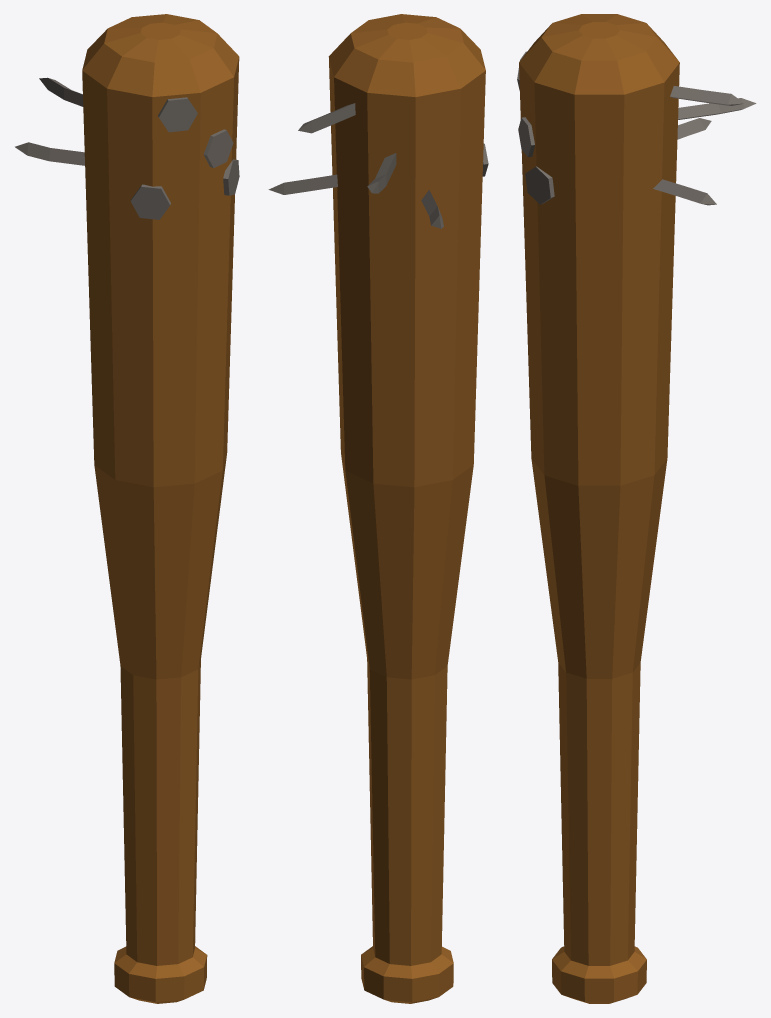
The model's file is MedivalBatonNails.fbx.
3 views of the same model, side by side, from view 1: azimuth 30°, elevation 25°; view 2: azimuth 150°, elevation 25°; view 3: azimuth 270°, elevation 25° (orthographic).
Visible parts, largest first — view 1: Цилиндр, Цилиндр.002, Цилиндр.001, Цилиндр.003, Цилиндр.006; view 2: Цилиндр, Цилиндр.003, Цилиндр.006, Цилиндр.001; view 3: Цилиндр, Цилиндр.001, Цилиндр.002, Цилиндр.006, Цилиндр.003.
Part boxes in pixels (x1,y1,x2,y2): Цилиндр: [82, 14, 239, 1003]; Цилиндр.002: [15, 142, 239, 195]; Цилиндр.001: [39, 77, 233, 168]; Цилиндр.003: [130, 184, 170, 219]; Цилиндр.006: [158, 97, 197, 132]; Цилиндр: [328, 14, 485, 1003]; Цилиндр.003: [268, 143, 488, 194]; Цилиндр.006: [298, 103, 355, 133]; Цилиндр.001: [367, 153, 396, 193]; Цилиндр: [519, 14, 679, 1003]; Цилиндр.001: [518, 98, 756, 157]; Цилиндр.002: [525, 118, 711, 204]; Цилиндр.006: [517, 51, 744, 105]; Цилиндр.003: [653, 179, 716, 205].
Size of the model in its own units: 39.23 by 211 by 47.71.
